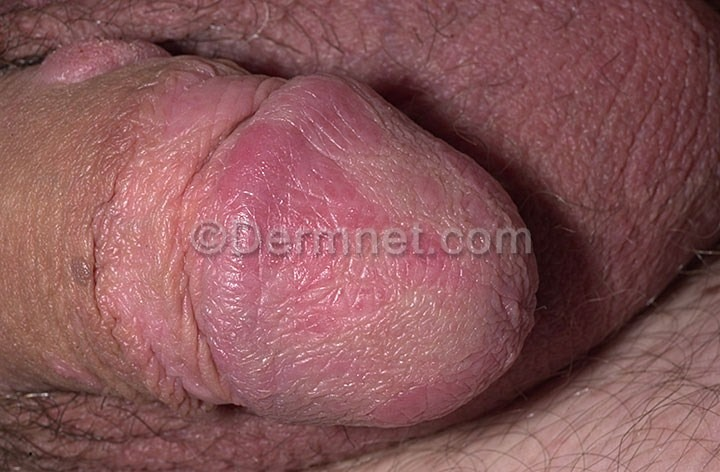Psoriasis: (155, 101, 473, 334)
